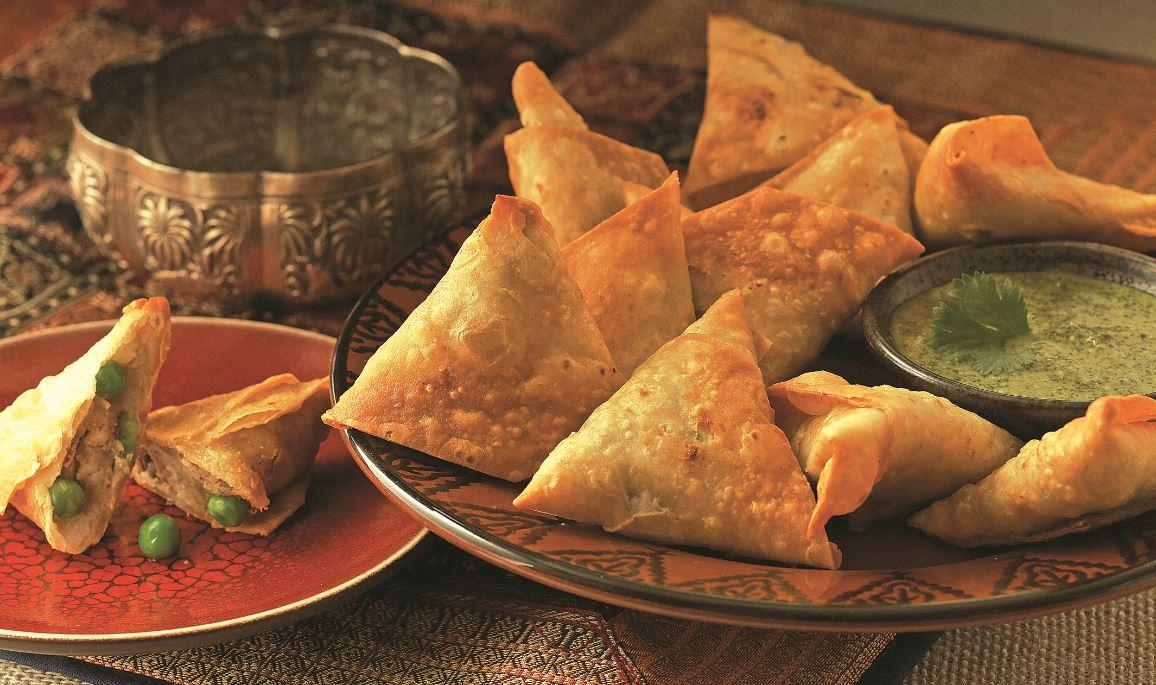samosa: (515, 291, 842, 568), (325, 196, 619, 481), (768, 373, 1021, 536), (684, 16, 878, 209), (908, 395, 1156, 545), (914, 115, 1156, 252), (503, 63, 668, 245), (562, 172, 695, 379), (765, 106, 912, 233), (984, 160, 992, 166)
